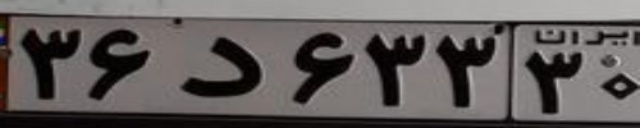0: (593, 70, 637, 102)
3: (362, 31, 426, 108), (13, 26, 79, 100), (434, 32, 496, 109), (517, 49, 589, 115)
6: (290, 30, 357, 106), (86, 27, 152, 99)
dal: (179, 36, 263, 98)
